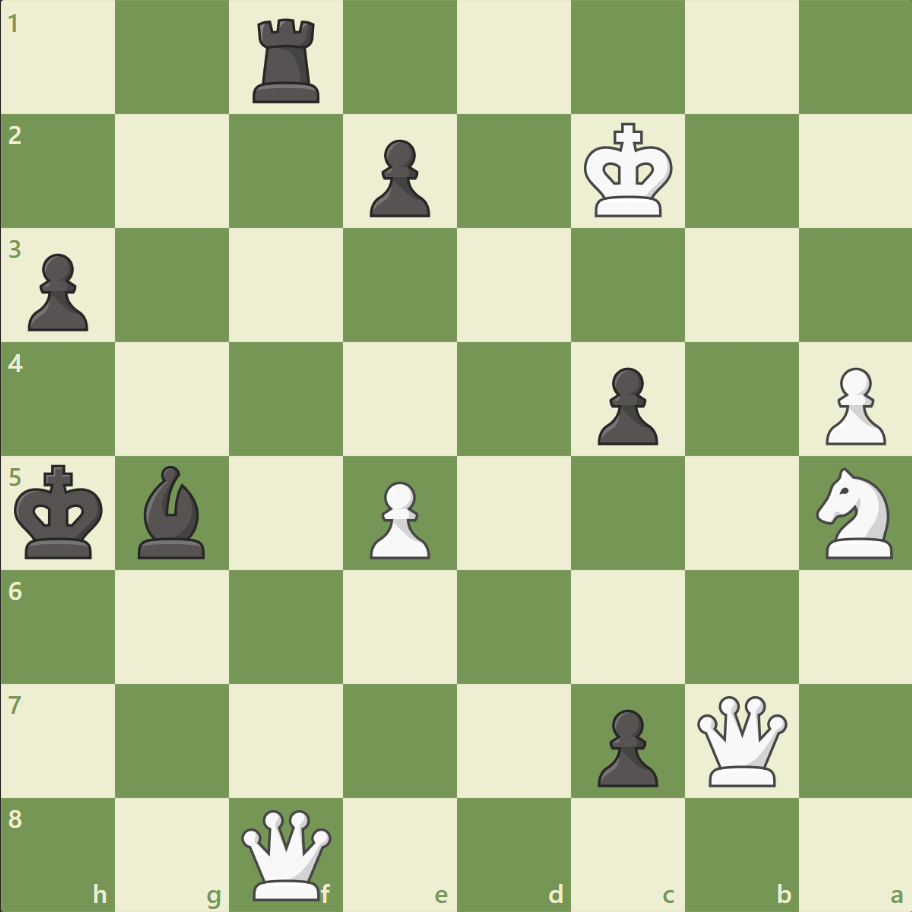K: (579, 117, 679, 225)
N: (806, 461, 903, 564)
P: (361, 473, 435, 564), (815, 359, 889, 450)
Q: (237, 804, 336, 903), (691, 690, 790, 789)
b: (131, 460, 215, 563)
k: (11, 458, 111, 566)
p: (20, 246, 95, 337), (588, 700, 662, 791), (588, 359, 662, 450), (361, 132, 435, 223)
r: (246, 12, 329, 109)
